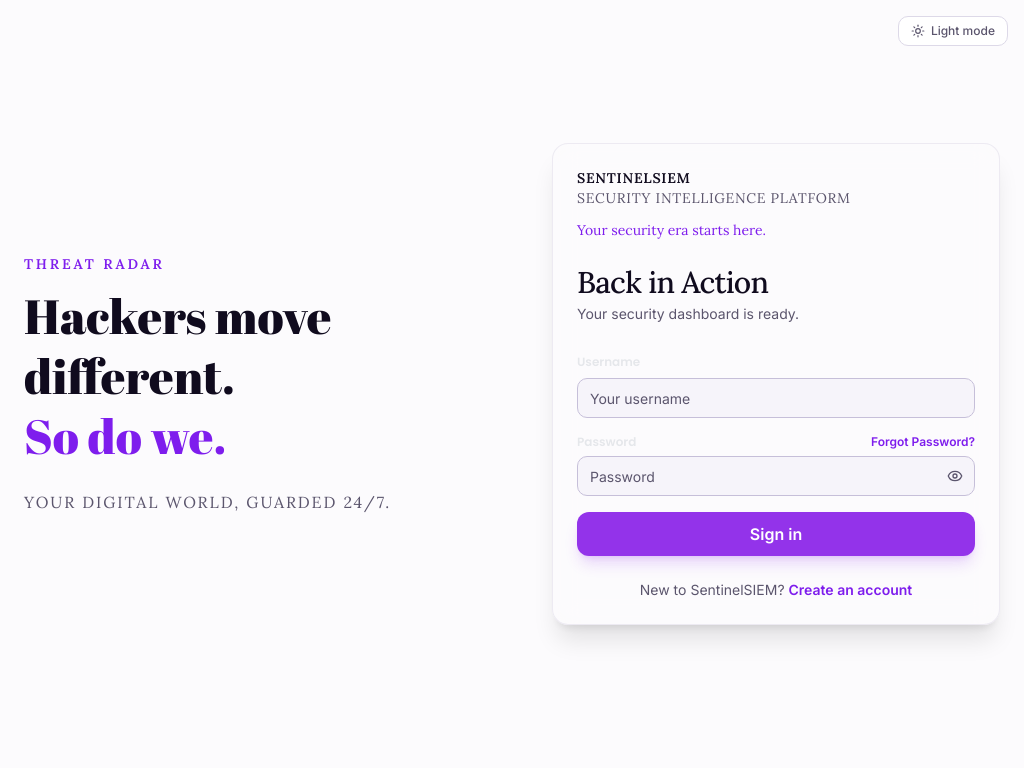
Test case: Login page › shows the server message when approval is pending
The image size is (1024, 768).
Type "alice" into the field labelled "Username". click: (776,398)
box: [577,378,975,418]
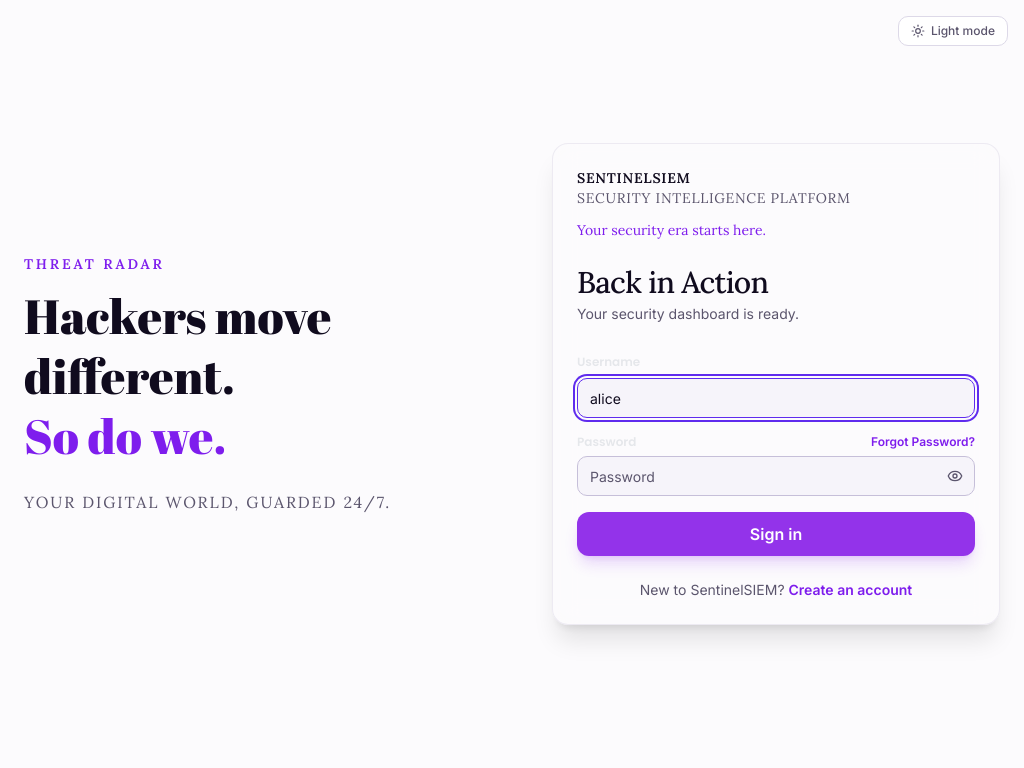
Type "x" into the password field labelled "Password". click: (776,476)
box: [577,456,975,496]
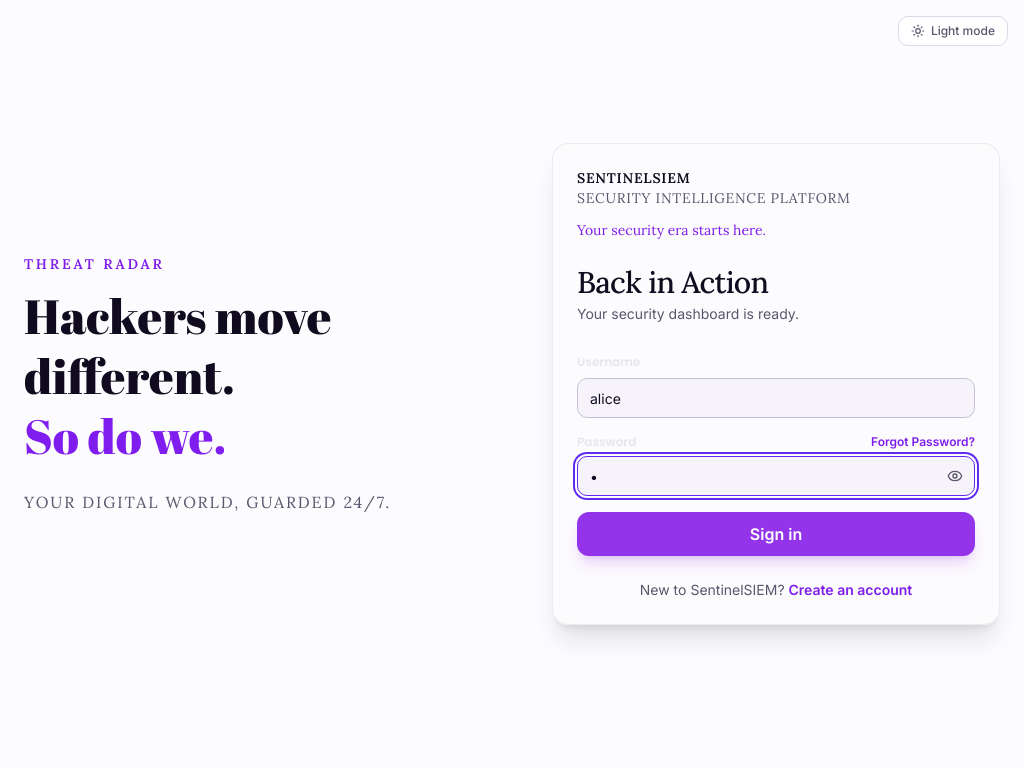
Click the button "Sign in". click: (776,534)
box: [577,512,975,556]
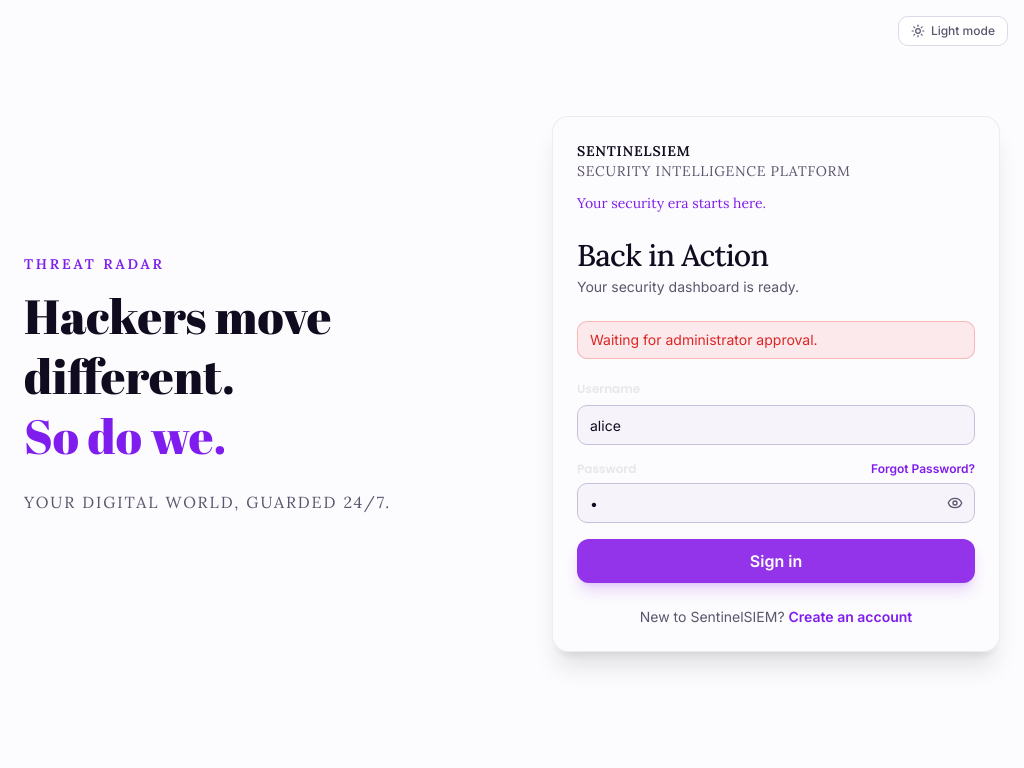
expect the message reads "Waiting for administrator approval.": met, box [590,331,818,348]
